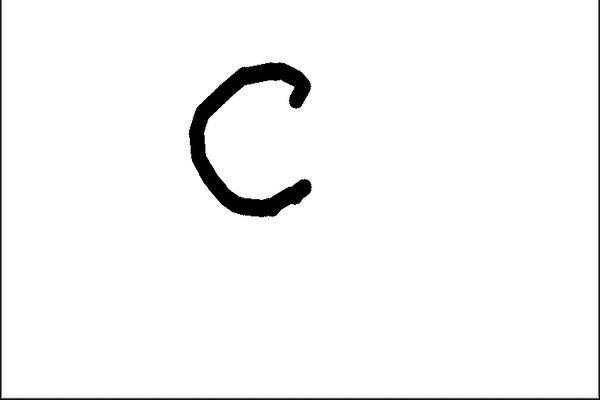C: (185, 57, 316, 219)
